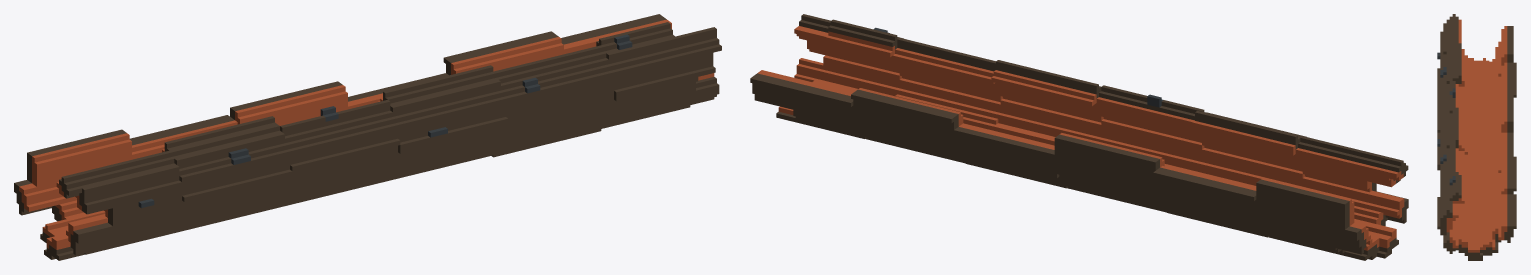
Rendered from alder_bark.glb.
3 renders of one model, left to right at view 1: azimuth 30°, elevation 25°; view 2: azimuth 150°, elevation 25°; view 3: azimuth 270°, elevation 25°, orthographic. The views are drawn at different scales.
Visible parts, largest first — view 1: alder_bark:compound; view 2: alder_bark:compound; view 3: alder_bark:compound.
Part boxes in pixels (<box>): alder_bark:compound: <box>14,14,721,260</box>; alder_bark:compound: <box>750,14,1408,260</box>; alder_bark:compound: <box>1437,14,1516,260</box>.
Size of the model in its own units: 0.3 by 0.042 by 0.052.
